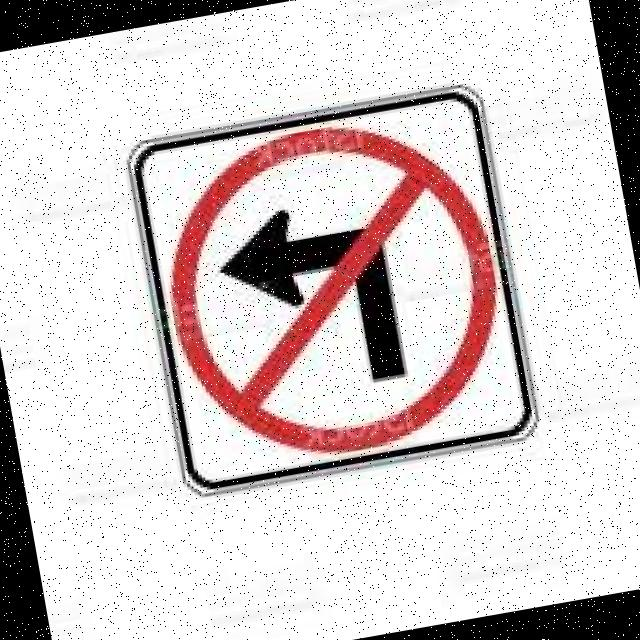do_not_turn_right: (140, 90, 526, 480)
